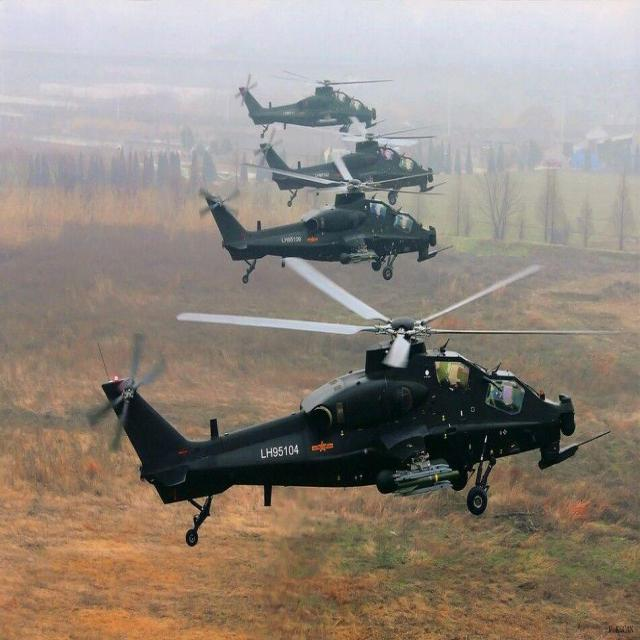MIL_HELO: (85, 238, 630, 527), (156, 153, 475, 290), (238, 126, 464, 209), (218, 58, 401, 137)
